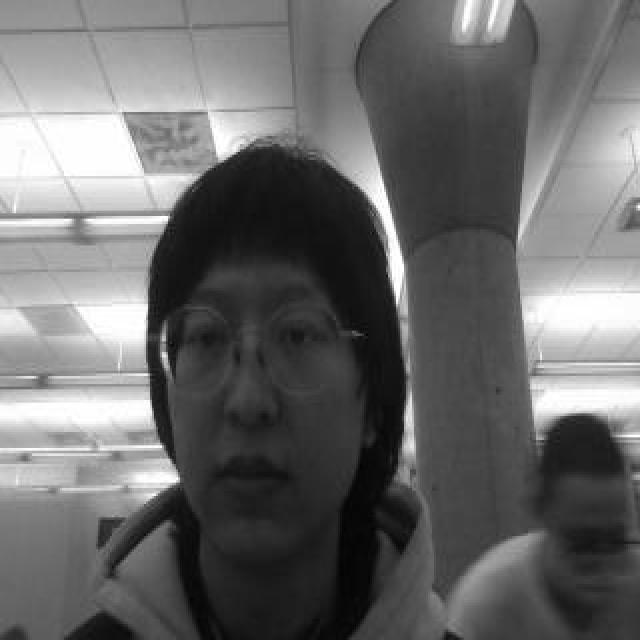Focused: (158, 232, 354, 538)
